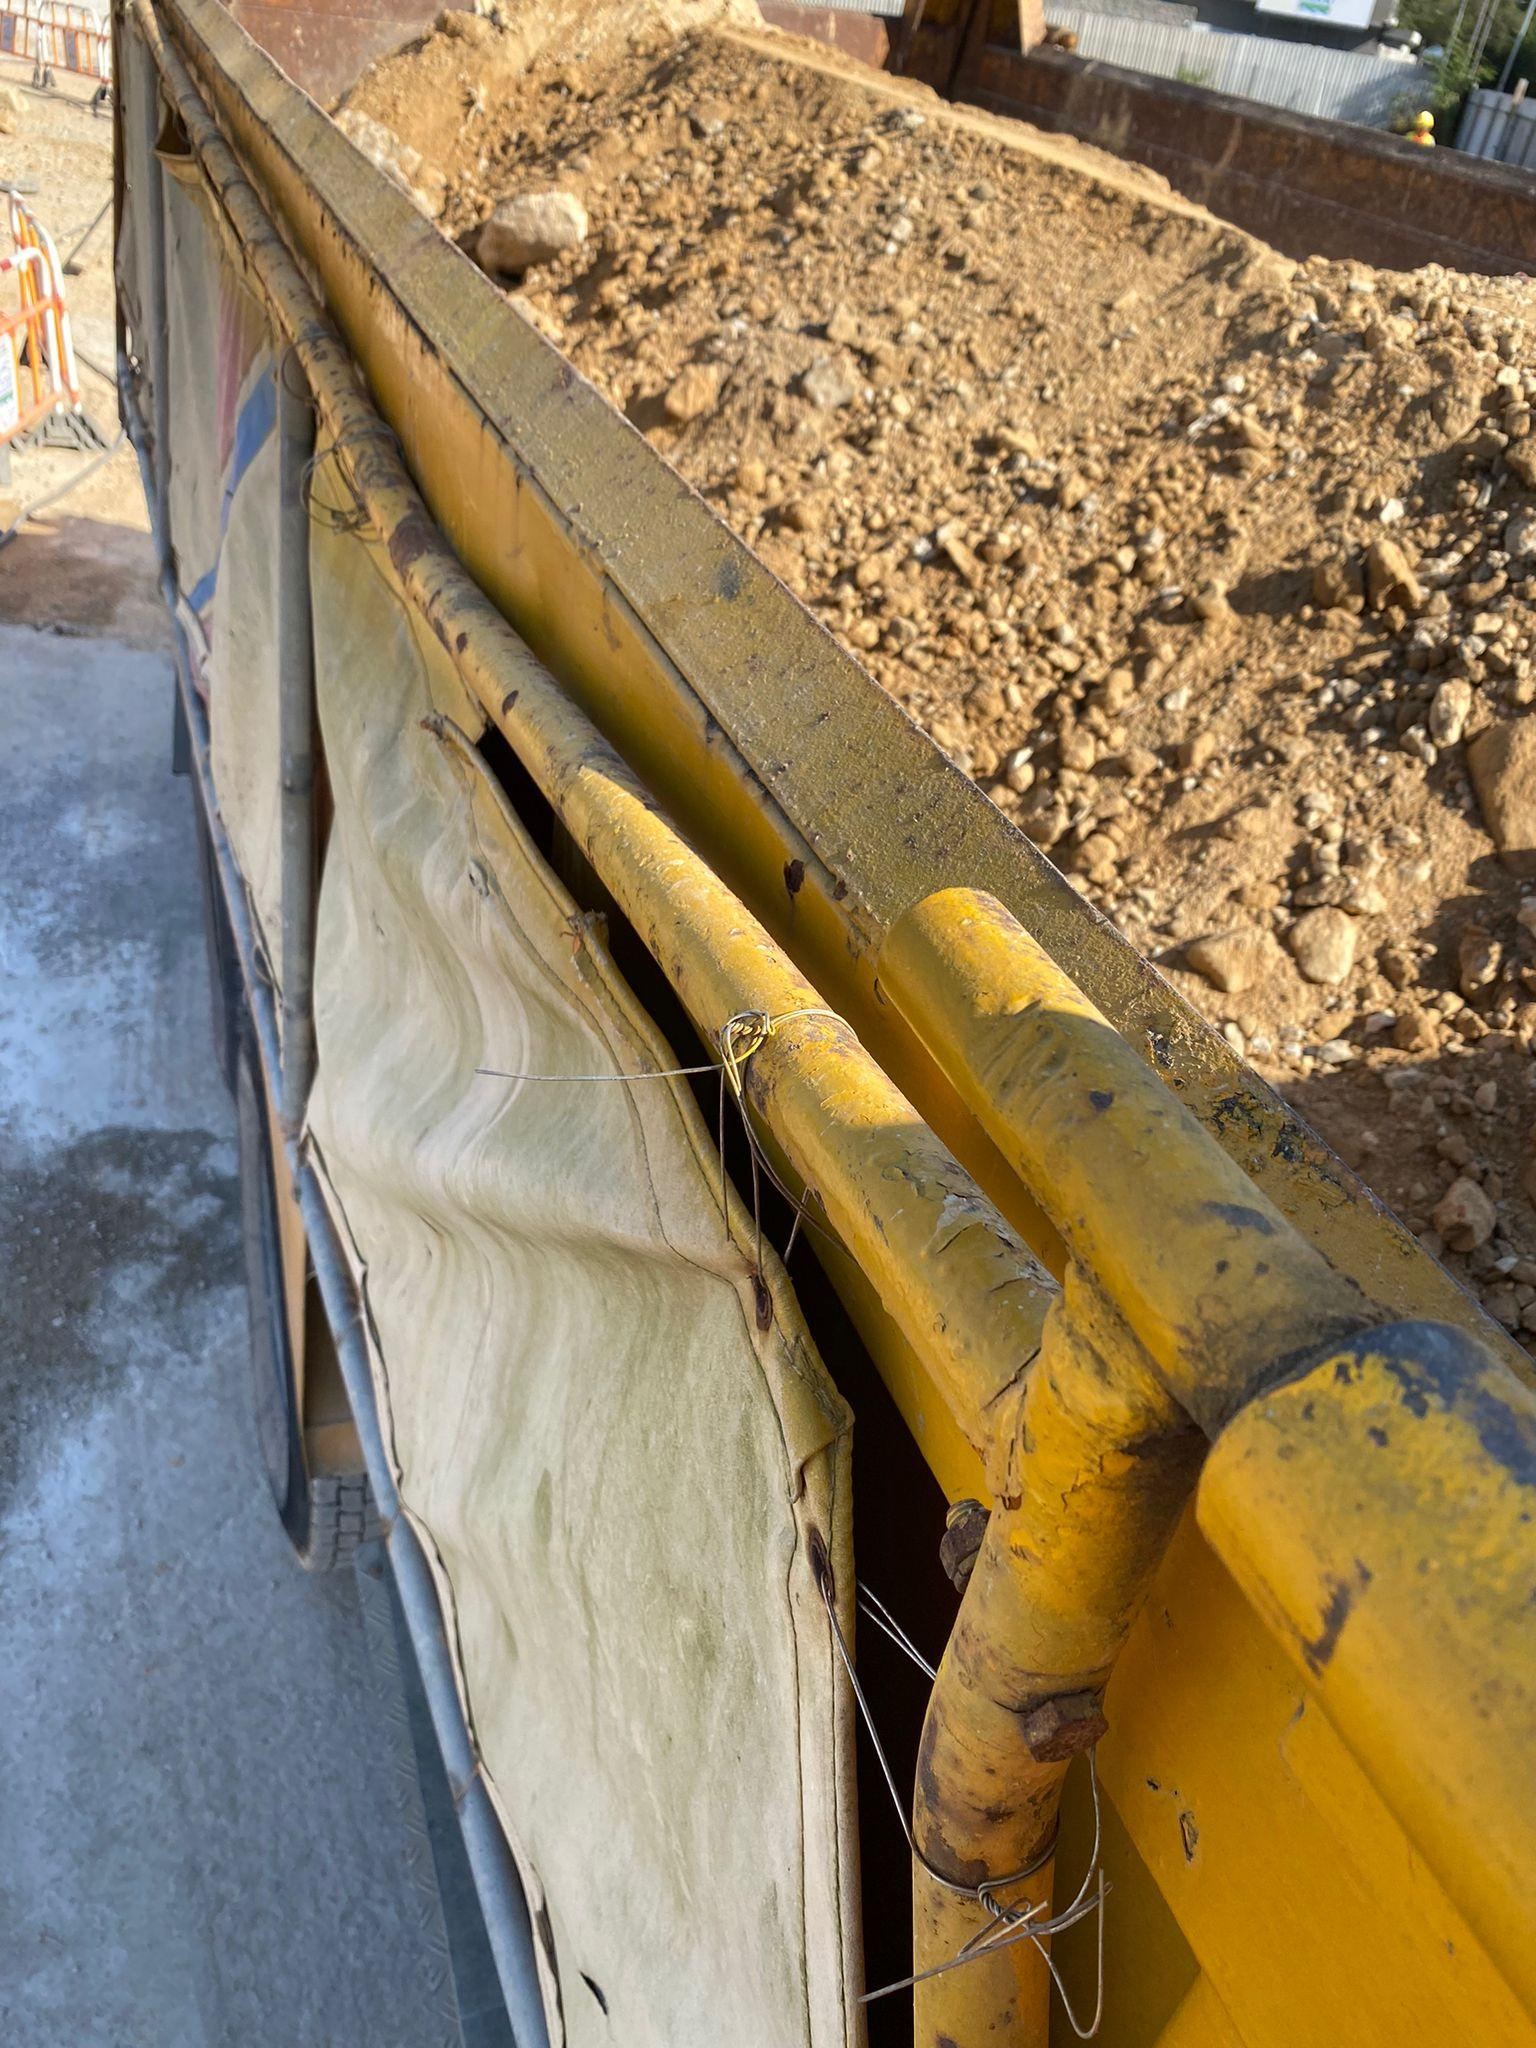dry: (326, 23, 1536, 1266)
